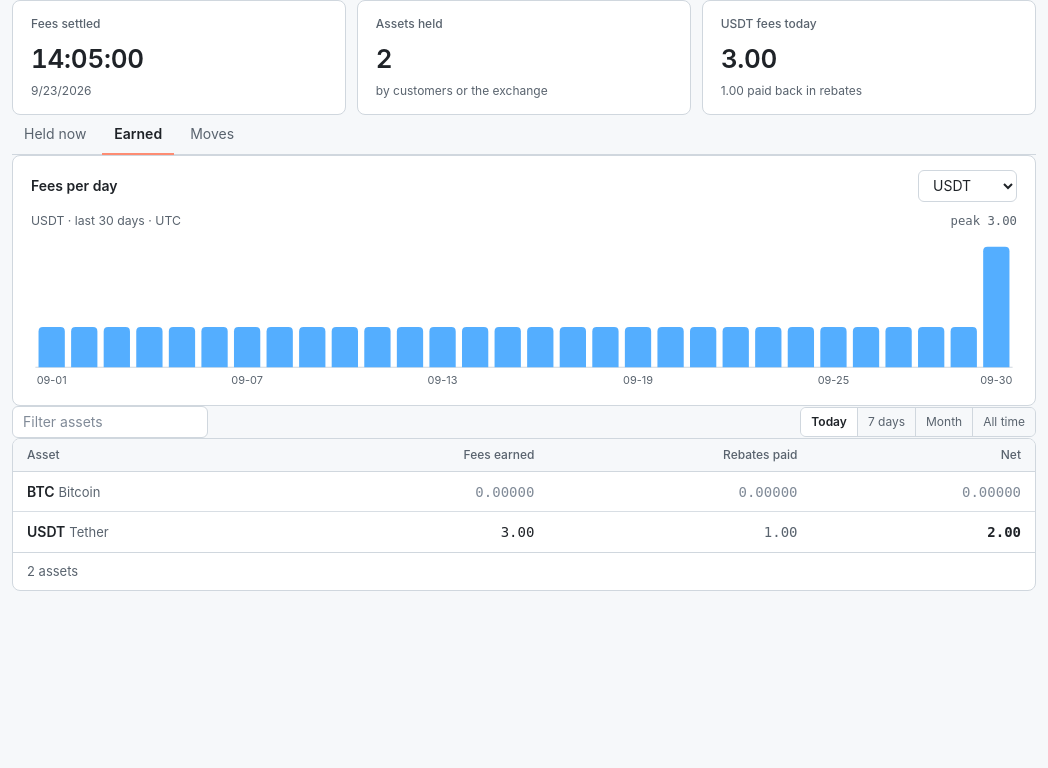
Treasury › on Earned, the period changes the table without asking the server again
Expected: the text "3.00" in the row of "Tether" is shown, [501,524,534,540]
Expected: the text "2.00" is shown, [987,524,1021,540]
Click the tab "All time" at (1004, 422), box [972,408,1035,436]
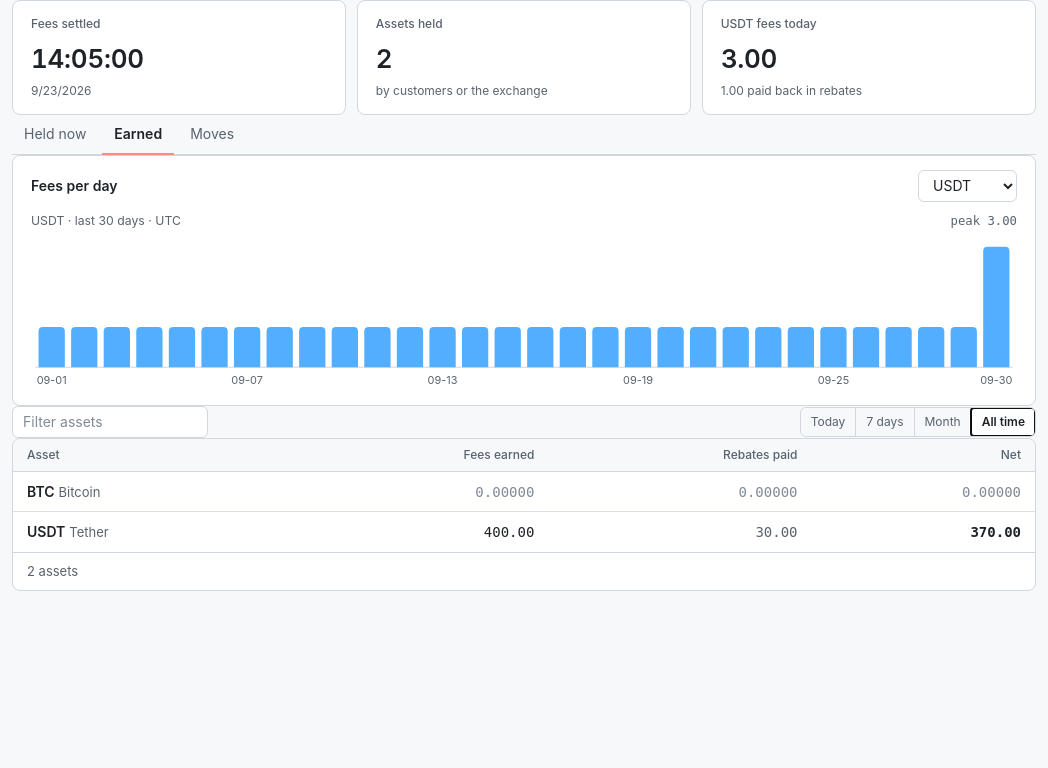
Expected: the text "400.00" is shown, [484,524,534,540]
Expected: the text "370.00" is shown, [970,524,1021,540]
